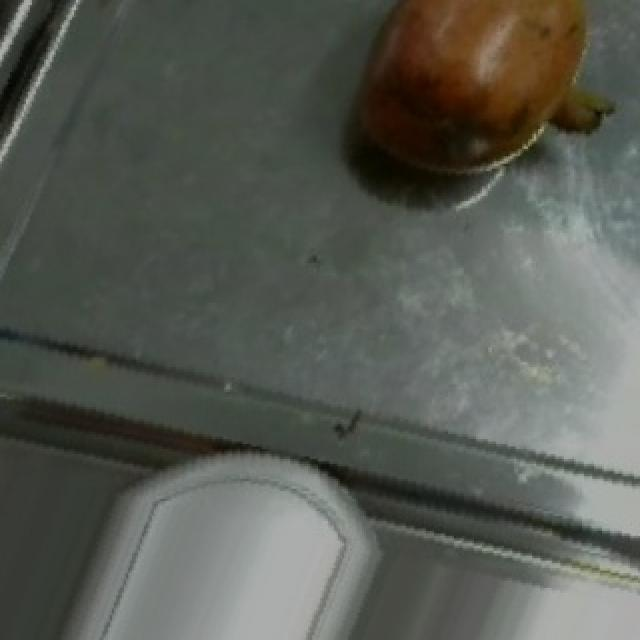fruit: (332, 0, 626, 208)
